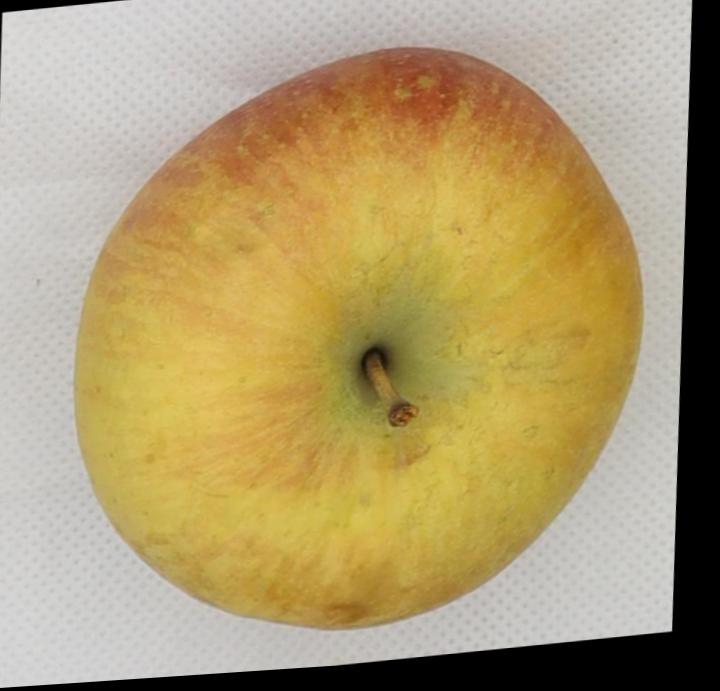apple: (76, 46, 642, 628)
